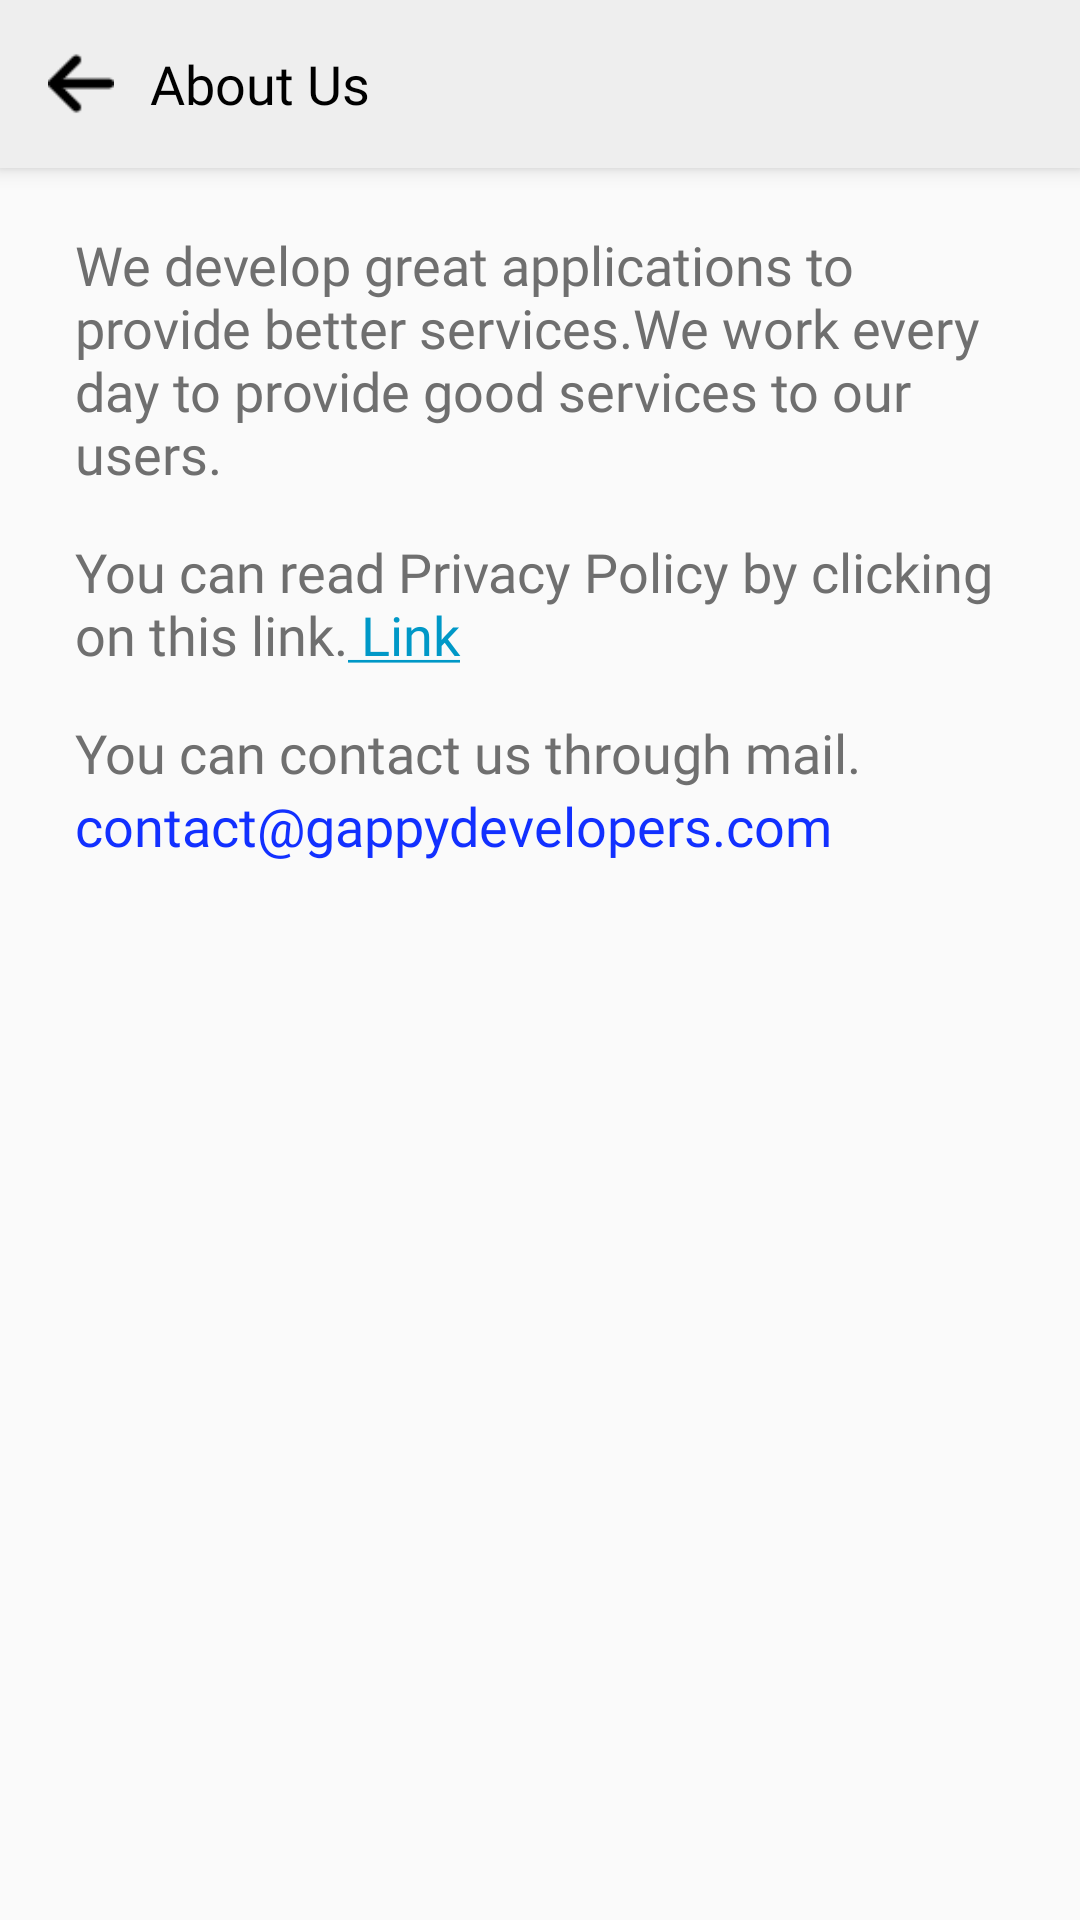

Icon click points for this 1080w x 1920h phone screenshot, format (x=x, y=y):
arrows: (x=81, y=83)
